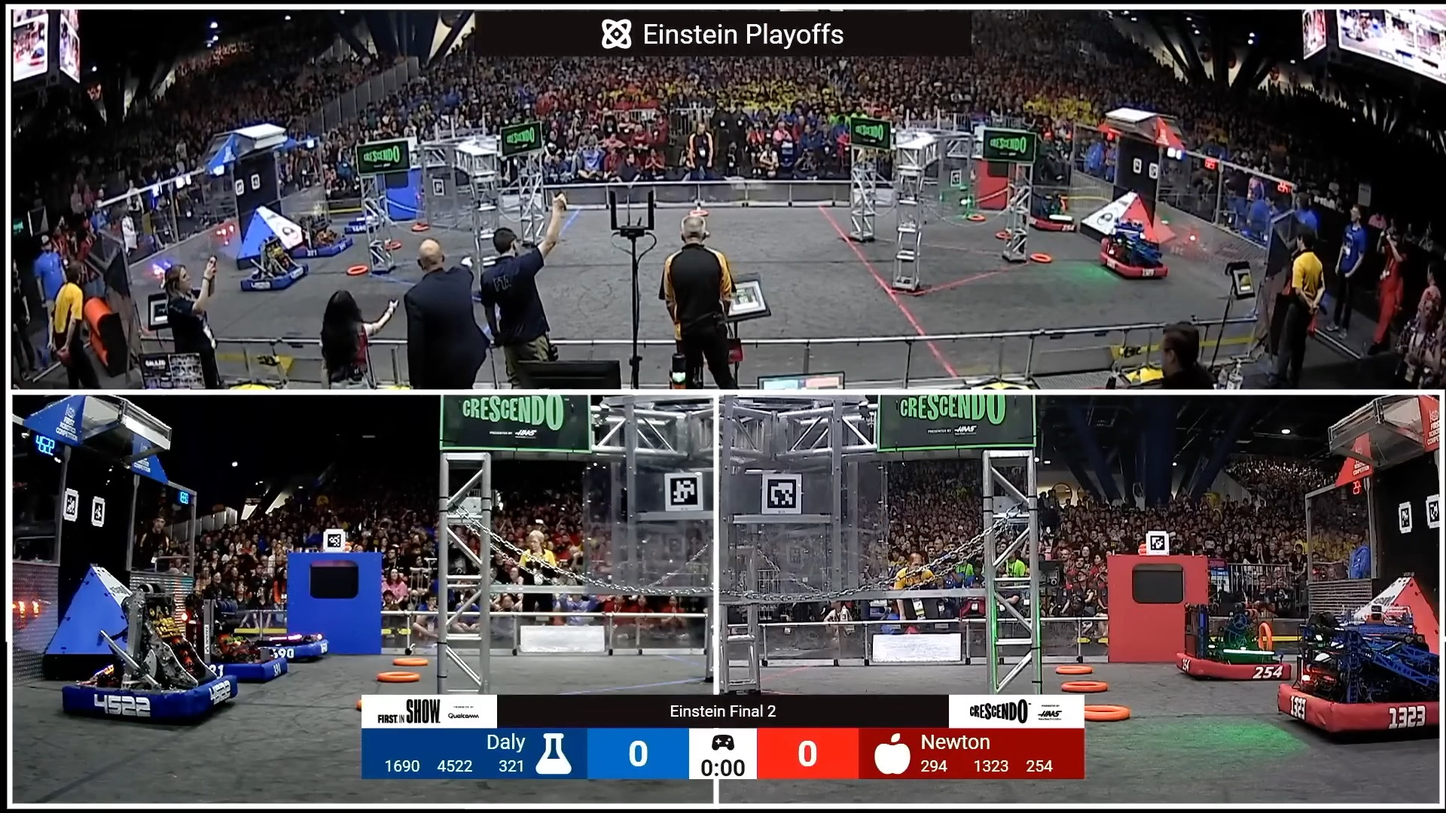bumpers: (1266, 668, 1429, 747), (77, 658, 250, 729), (1171, 645, 1296, 688), (1085, 241, 1186, 284), (194, 651, 298, 686), (212, 637, 334, 665), (236, 262, 321, 293), (1007, 210, 1082, 235), (286, 236, 358, 262), (346, 217, 392, 235)
